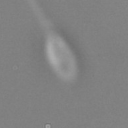normal: (26, 1, 58, 35)
